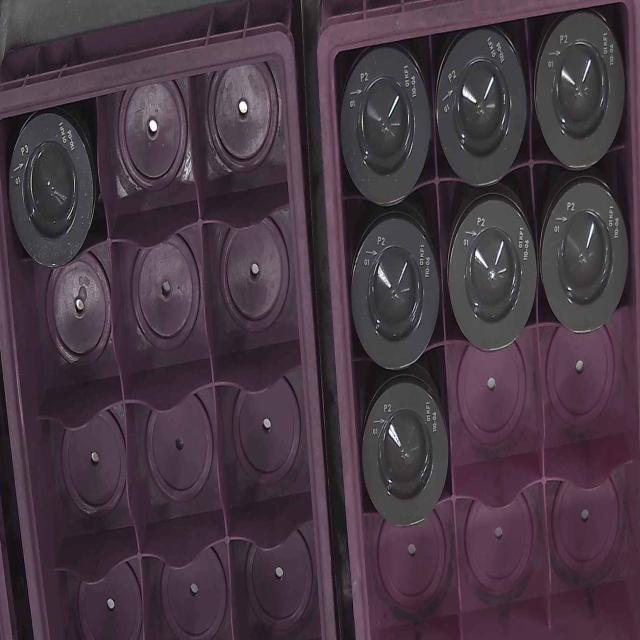P2: (437, 34, 524, 190), (535, 14, 620, 172), (359, 380, 450, 527), (352, 217, 436, 371), (450, 205, 537, 351), (342, 53, 428, 200), (544, 187, 629, 332)
P3: (8, 118, 90, 254)
